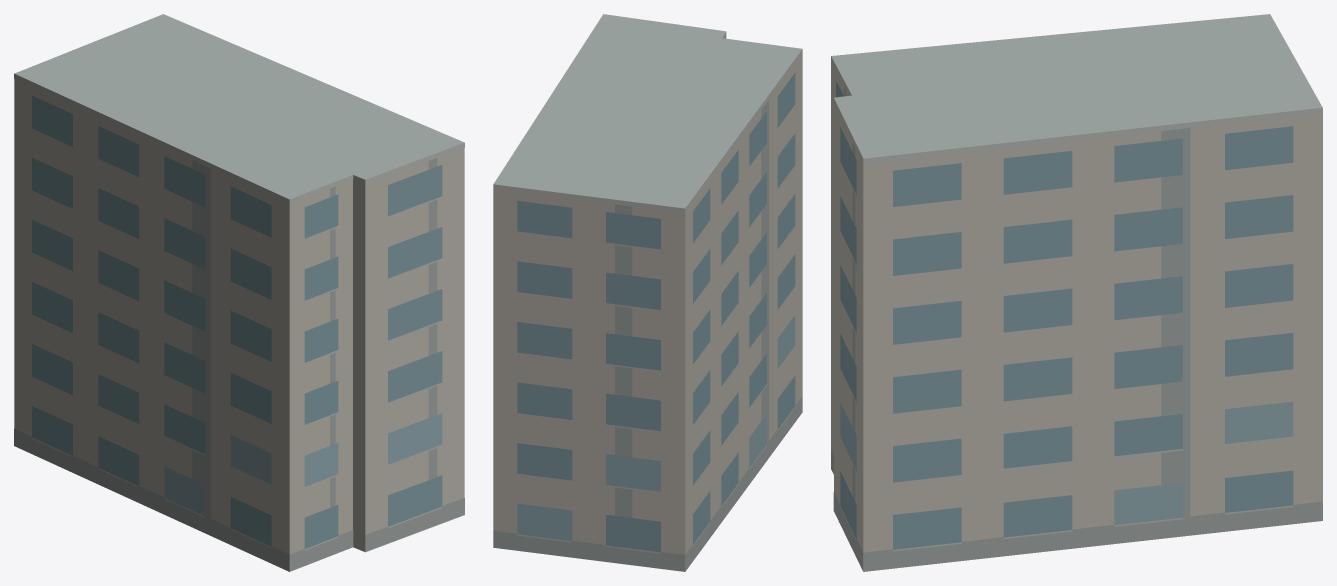
Rendered from survey-upis-32810767.glb.
3 views of the same model, side by side, from view 1: azimuth 30°, elevation 25°; view 2: azimuth 150°, elevation 25°; view 3: azimuth 270°, elevation 25° (orthographic). The views are drawn at different scales.
Parts seen in each view (by area): view 1: survey-upis-32810767.tmp; view 2: survey-upis-32810767.tmp; view 3: survey-upis-32810767.tmp.
Boxes of the visible parts, x1,y1,x2,y2 form: survey-upis-32810767.tmp: (14,14,464,571); survey-upis-32810767.tmp: (493,14,802,571); survey-upis-32810767.tmp: (831,14,1322,571).
Size of the model in its own units: 13.75 by 18.3 by 19.75.
